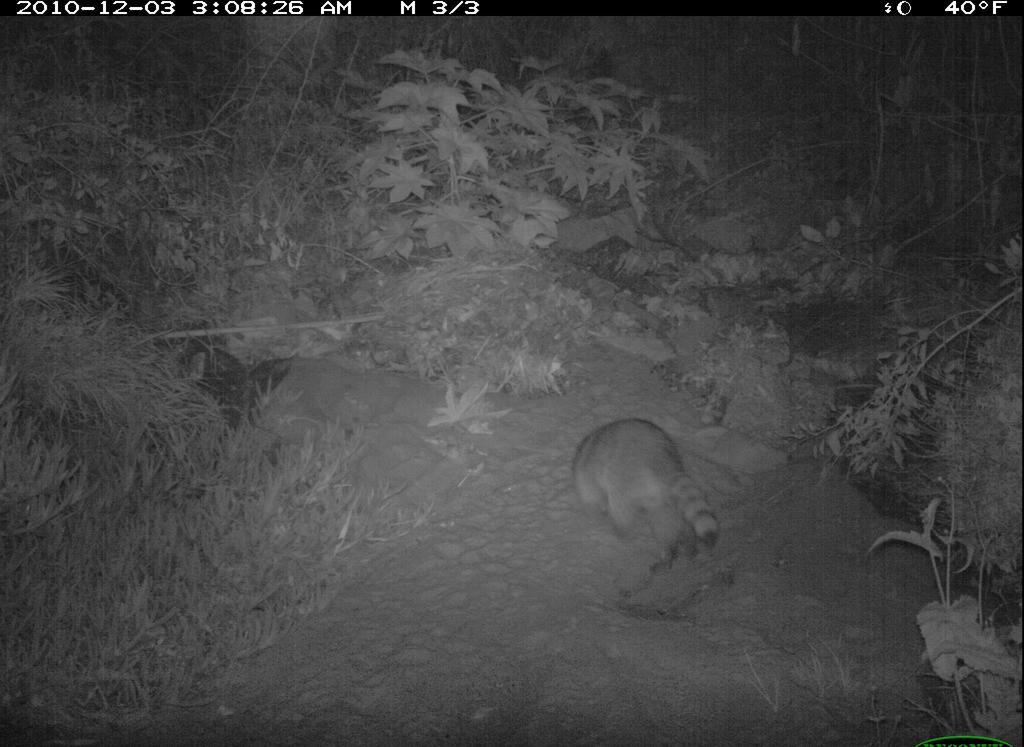raccoon: (560, 411, 726, 562)
